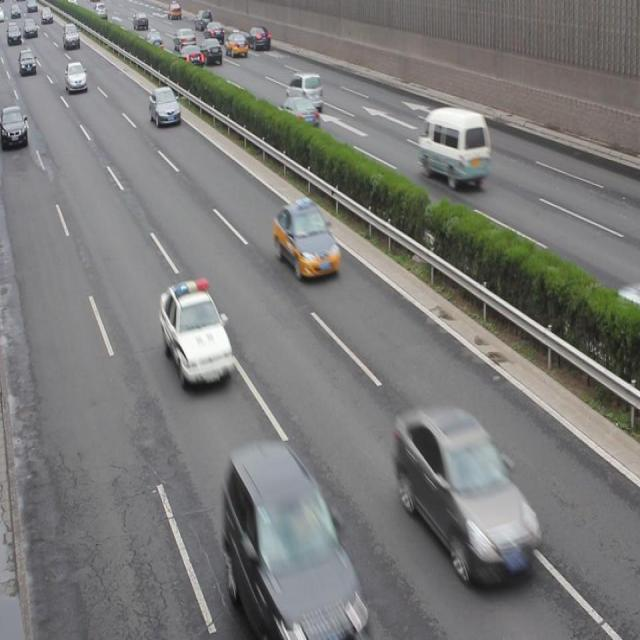car: (223, 447, 359, 640), (395, 405, 540, 581), (159, 280, 234, 390), (273, 200, 340, 282), (279, 96, 319, 134), (148, 84, 180, 128), (285, 71, 323, 107), (3, 104, 28, 150)
truck: (416, 105, 490, 188)
